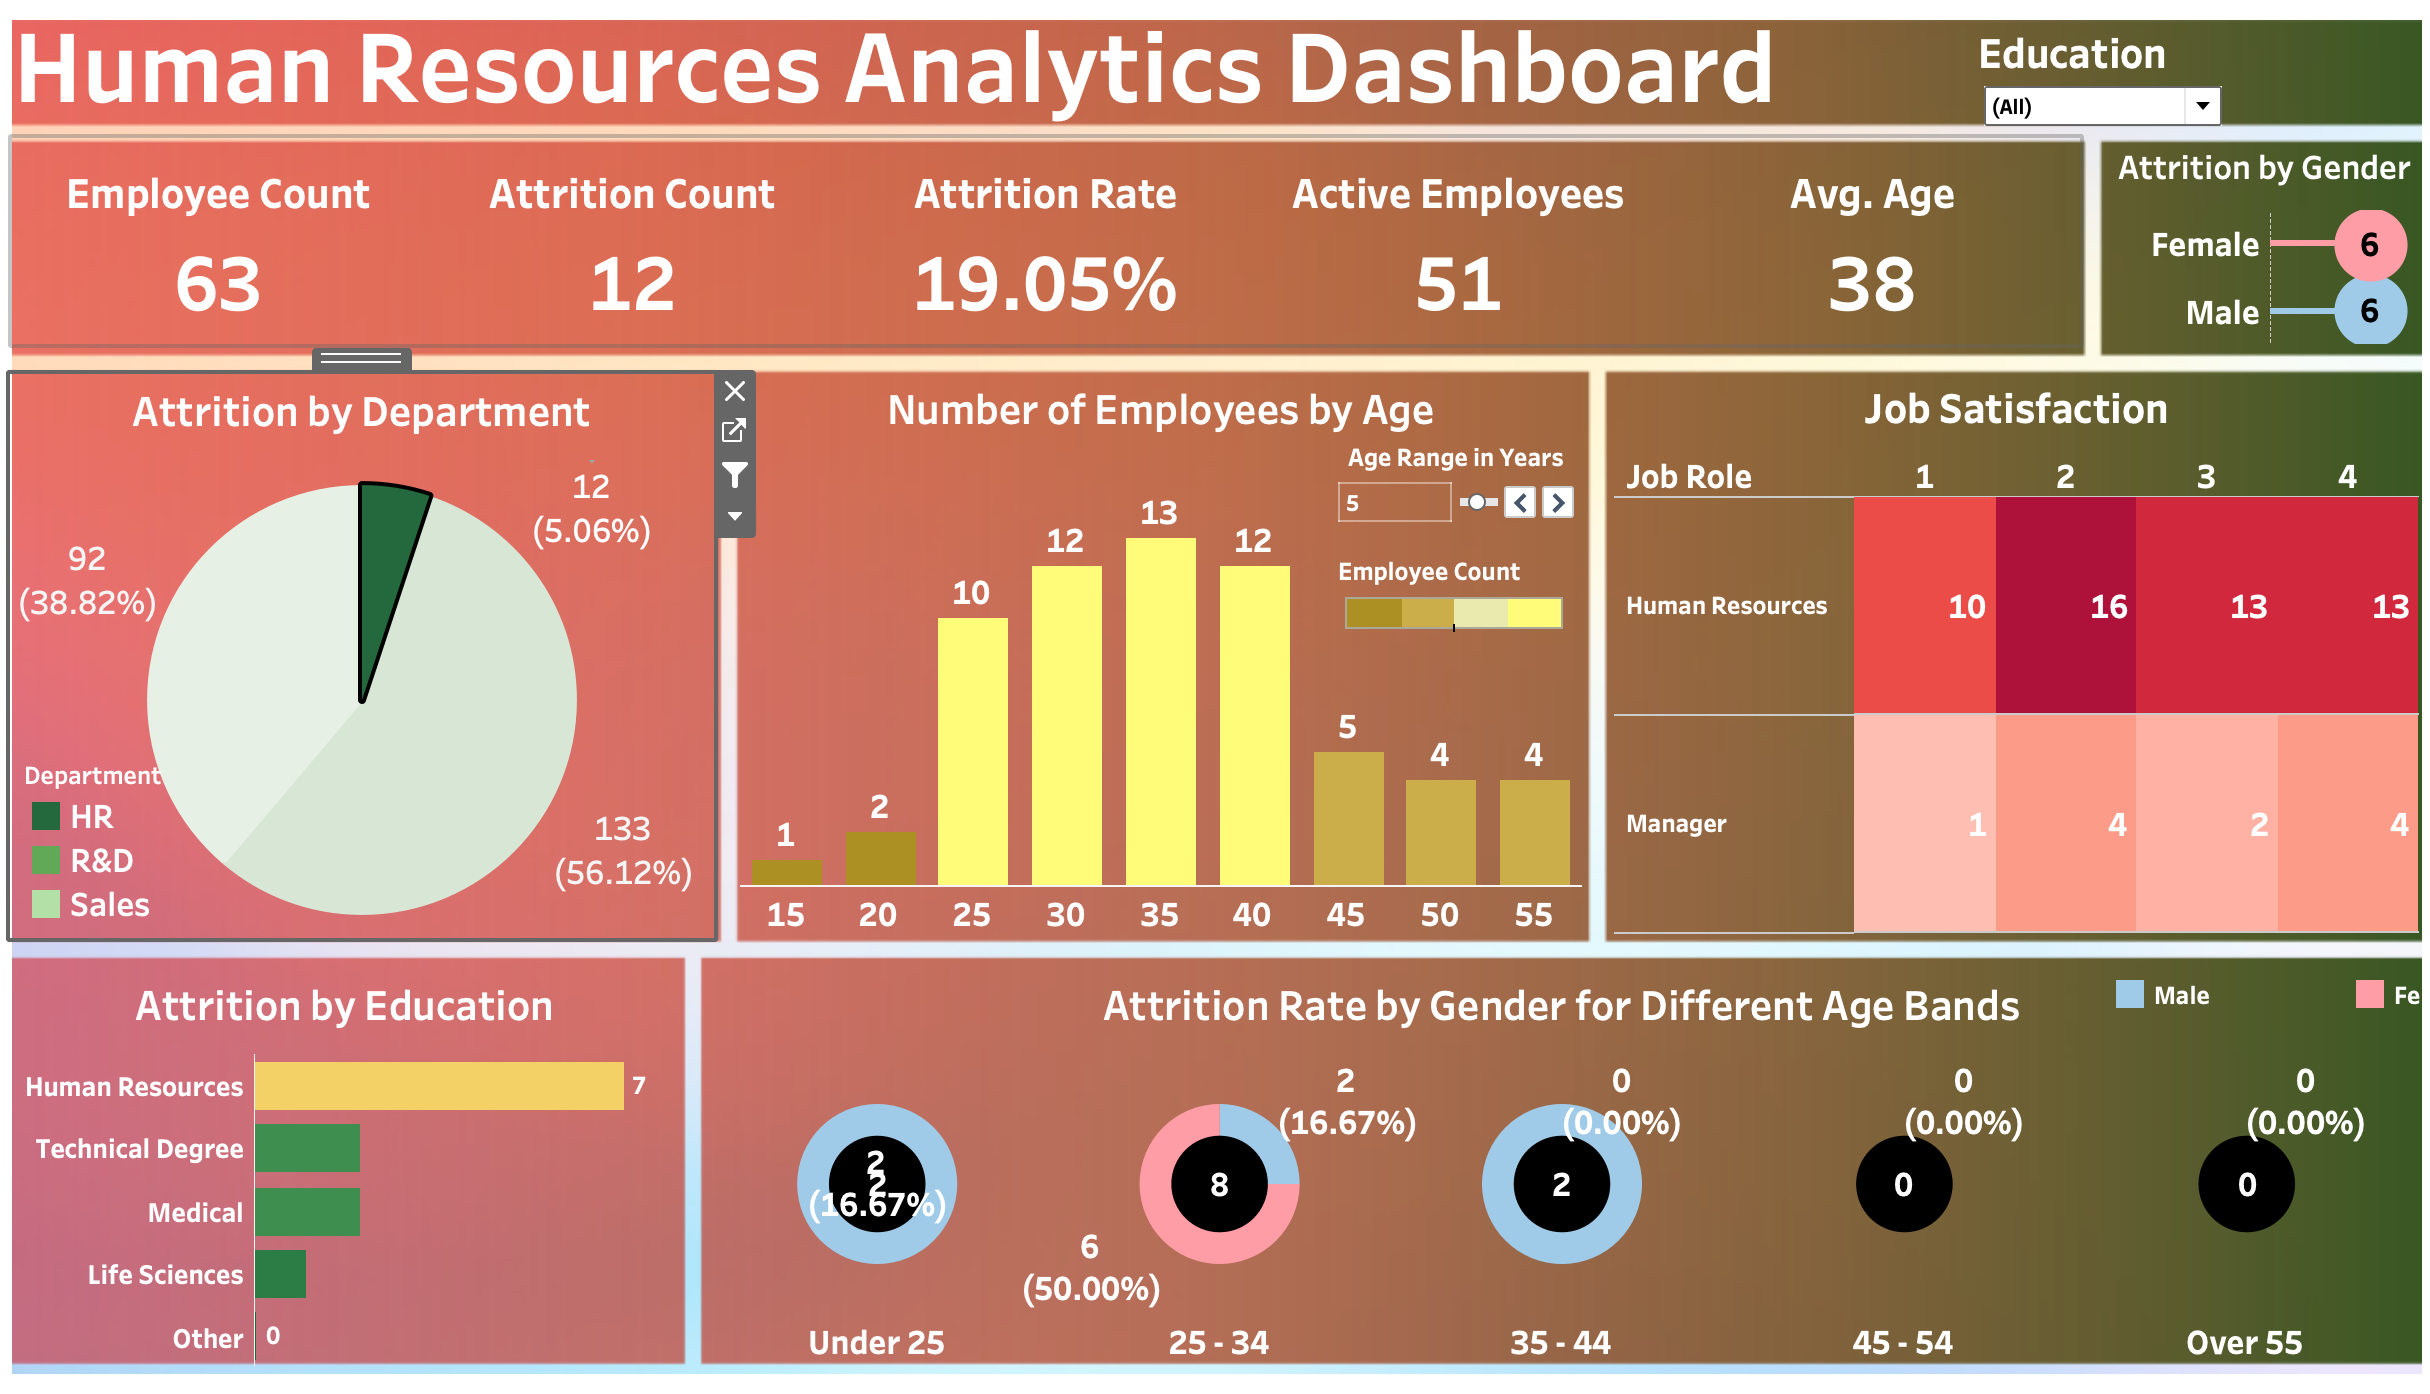

This screenshot's page, from the dashboard's own definition file:
{"tool":"tableau","page":{"name":"Human Resources Dashboard","canvas":[1580,900],"ordinal":0},"visuals":[{"type":"image","param":"/Users/chrisgaruba/Documents/PROJECTS/ORIGINAL PROJECT DATA/Data Analyst Portfol","box":[8,8,1564,884]},{"type":"text","box":[13,12,892,67]},{"type":"filter","title":"Attrition by Department","param":"[federated.16fzf2y1m25ecy1cqt7hm1aib45q].[none:Education:nk]","box":[1219,18,160,138]},{"type":"worksheet","title":"Attrition by Gender","mark":"Automatic","rows":["Gender"],"cols":["Calculation_1640436225959071744","Calculation_1640436225959071744"],"box":[1364,93,201,132]},{"type":"worksheet","title":"KPI","mark":"Automatic","box":[16,94,1329,131]},{"type":"worksheet","title":"Number of Employees by Age","mark":"Automatic","rows":["Employee Count"],"cols":["Age (bin)"],"box":[484,243,541,360]},{"type":"worksheet","title":"Job Satisfaction","mark":"Square","rows":["Job Role"],"cols":["Job Satisfaction"],"box":[1045,243,518,359]},{"type":"worksheet","title":"Attrition by Department","mark":"Pie","box":[14,244,453,360]},{"type":"parameter","param":"[Parameters].[Parameter 1]","box":[864,287,160,67]},{"type":"legend","title":"Number of Employees by Age","param":"[federated.16fzf2y1m25ecy1cqt7hm1aib45q].[sum:Employee Count:qk]","box":[868,359,150,52]},{"type":"legend","title":"Attrition by Department","param":"[federated.16fzf2y1m25ecy1cqt7hm1aib45q].[none:Department:nk]","box":[19,525,140,78]},{"type":"worksheet","title":"Attrition by Education","mark":"Automatic","rows":["Education Field"],"cols":["Calculation_1640436225959071744"],"box":[17,622,425,254]},{"type":"worksheet","title":"Attrition Rate by Gender for Different Age Bands","mark":"Pie","rows":["Calculation_1640436226023108614","Calculation_1640436226023129096"],"cols":["CF_age band"],"box":[462,622,1101,253]}]}

Visuals, with their boxes in screenshot pixels (x1, y1, x2, y2), scaled from the page's 1580x900 canvas onto the 2430x1394 screenshot:
image: 12, 12, 2418, 1382
text: 20, 19, 1392, 122
"Attrition by Department" filter: 1875, 28, 2121, 242
"Attrition by Gender" worksheet: 2098, 144, 2407, 348
"KPI" worksheet: 25, 146, 2069, 348
"Number of Employees by Age" worksheet: 744, 376, 1576, 934
"Job Satisfaction" worksheet (Square marks): 1607, 376, 2404, 932
"Attrition by Department" worksheet (Pie marks): 22, 378, 718, 936
parameter: 1329, 445, 1575, 548
"Number of Employees by Age" legend: 1335, 556, 1566, 637
"Attrition by Department" legend: 29, 813, 245, 934
"Attrition by Education" worksheet: 26, 963, 680, 1357
"Attrition Rate by Gender for Different Age Bands" worksheet (Pie marks): 711, 963, 2404, 1355
